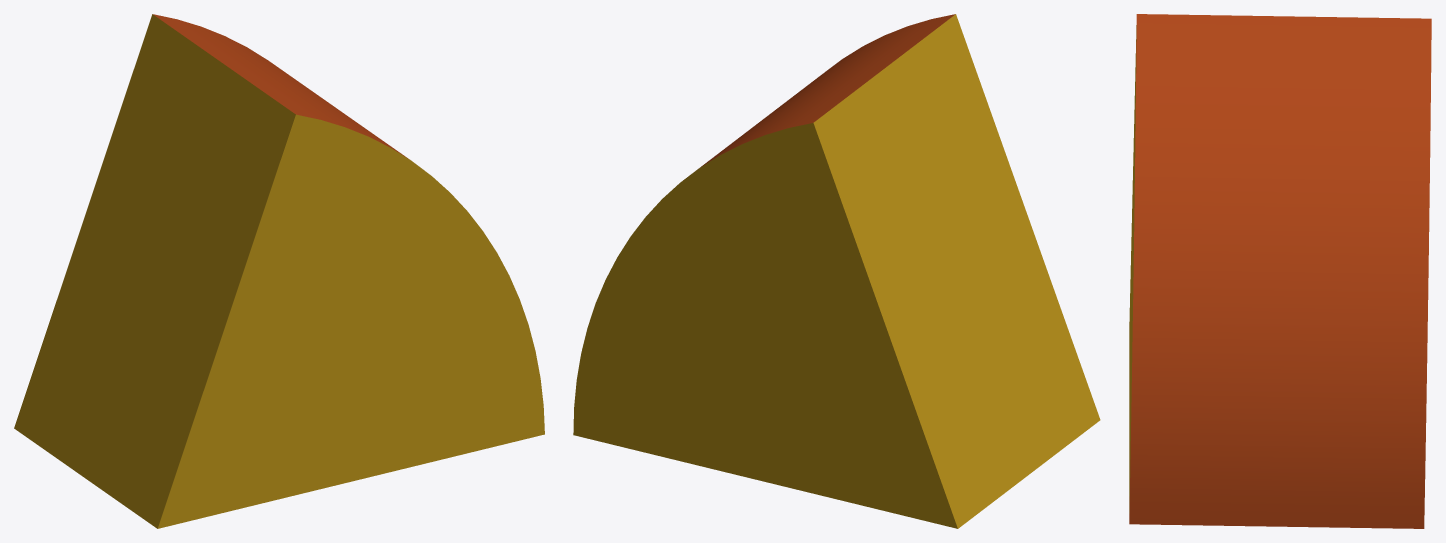
Rendered from 3D_Cheese.FBX.
3 renders of one model, left to right at view 1: azimuth 30°, elevation 25°; view 2: azimuth 150°, elevation 25°; view 3: azimuth 270°, elevation 25°, orthographic. The views are drawn at different scales.
Visible parts, largest first — view 1: 3D_Cheese; view 2: 3D_Cheese; view 3: 3D_Cheese.
Part boxes in pixels (<box>): 3D_Cheese: <box>14,14,544,528</box>; 3D_Cheese: <box>573,14,1100,528</box>; 3D_Cheese: <box>1129,14,1431,528</box>.
Size of the model in its own units: 200 by 188 by 131.
